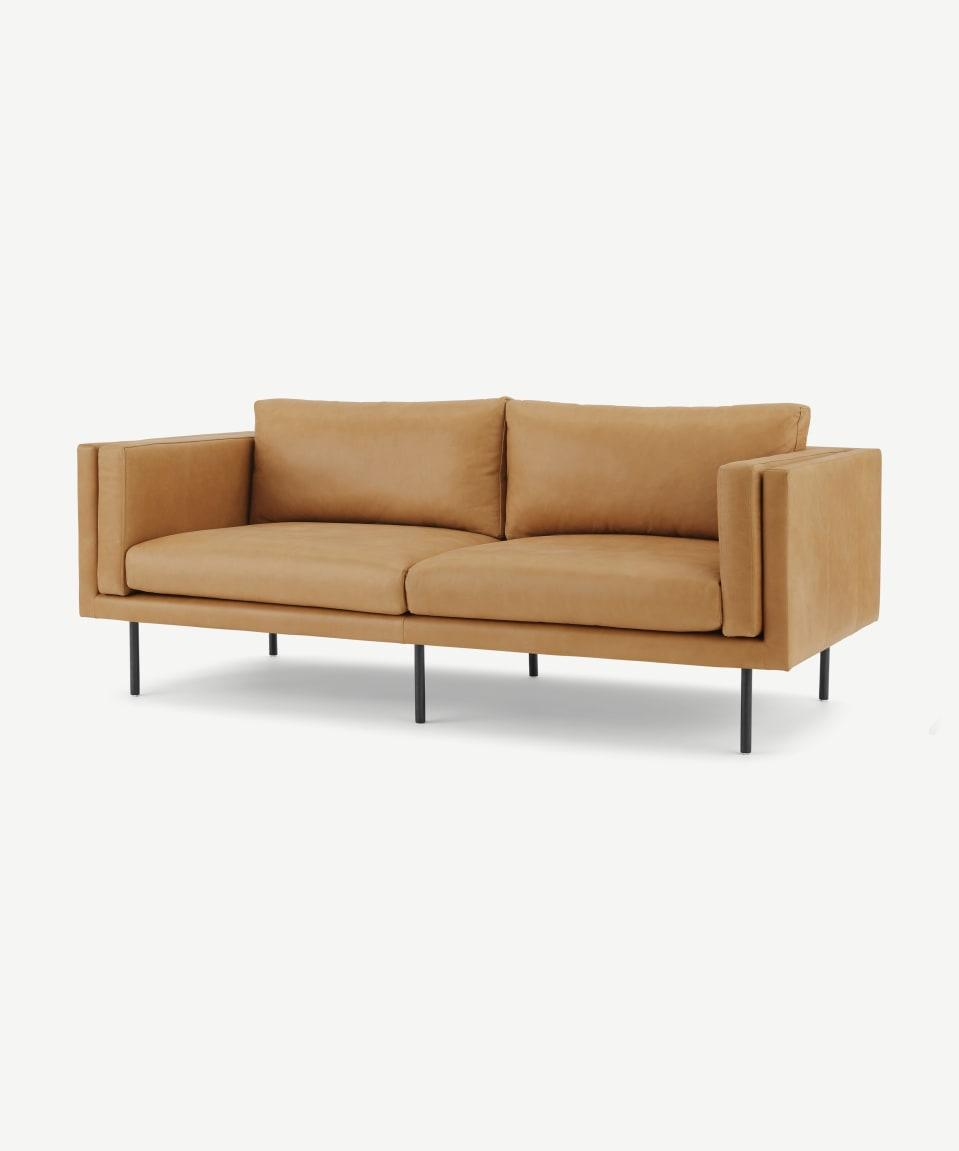couch: (52, 368, 878, 755)
